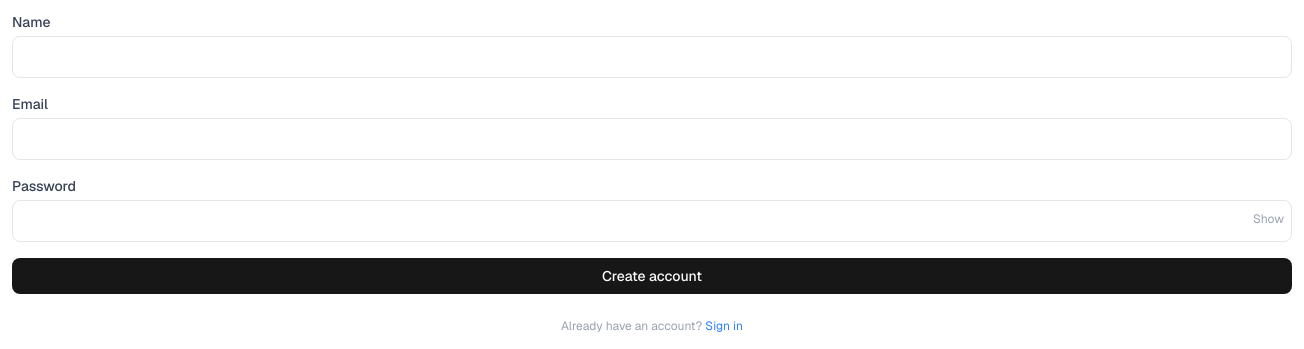
Test: RegisterForm › shows loading state
In the field below "Name": (652, 57) 12,36 -> 1292,78, type "John"
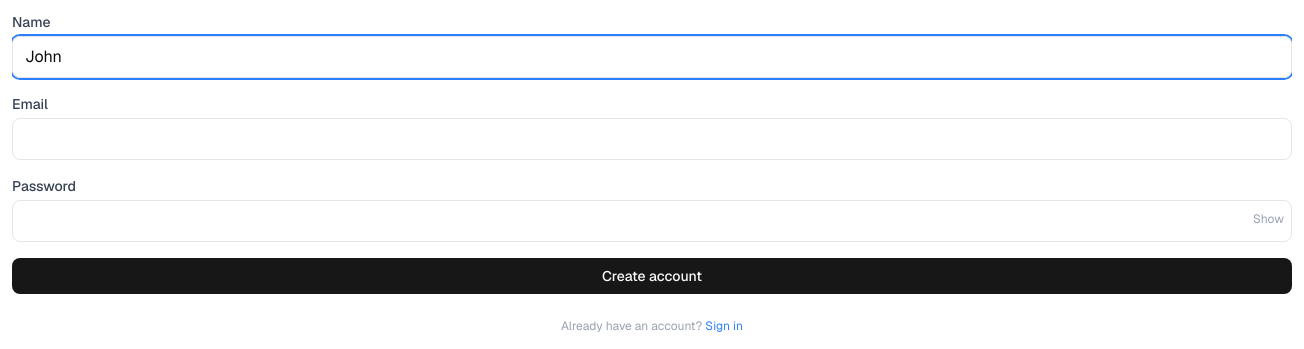
In the field below "Email": (652, 139) 12,118 -> 1292,160, type "john@test.com"
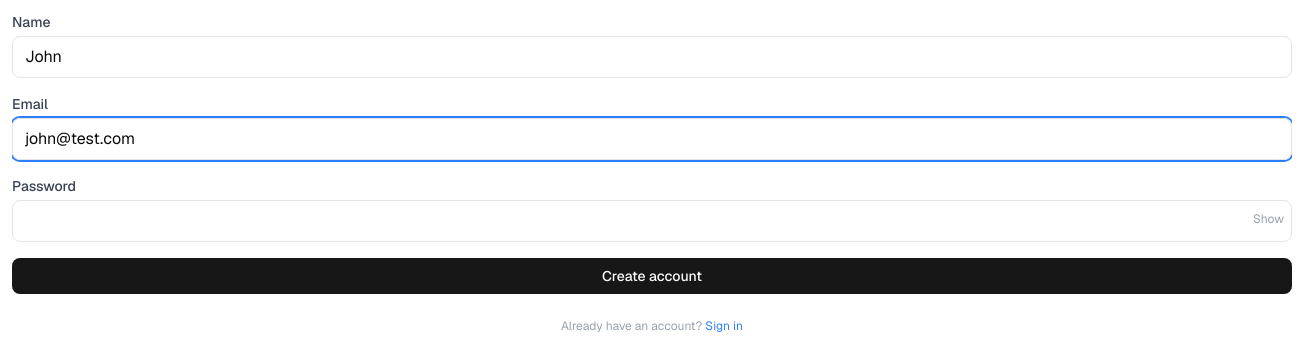
In the password field: (652, 221) 12,200 -> 1292,242, type "password123"
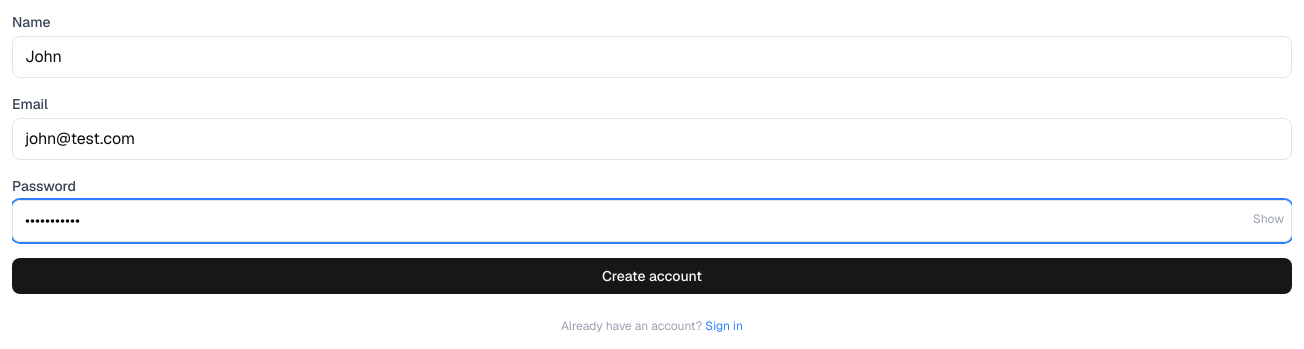
Click the button "Create account": (652, 276) 12,258 -> 1292,294
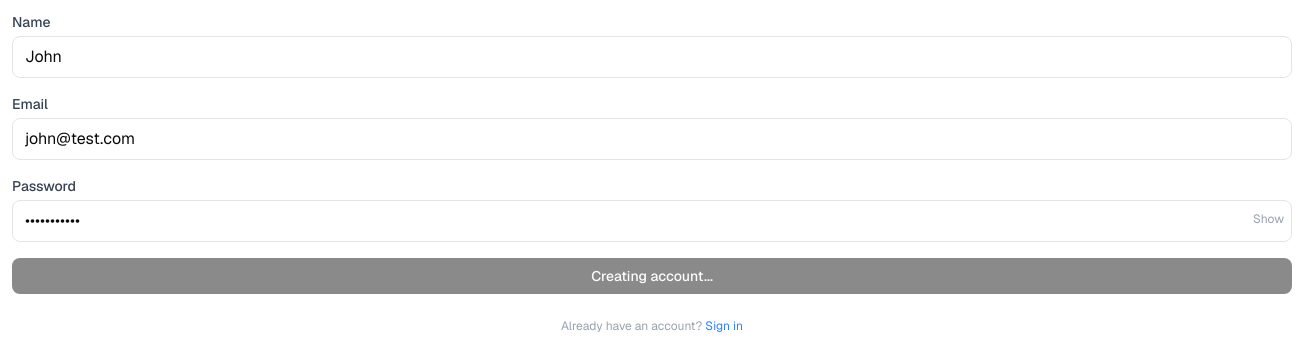
Now the button "Creating account..." is shown, box 12,258 -> 1292,294
